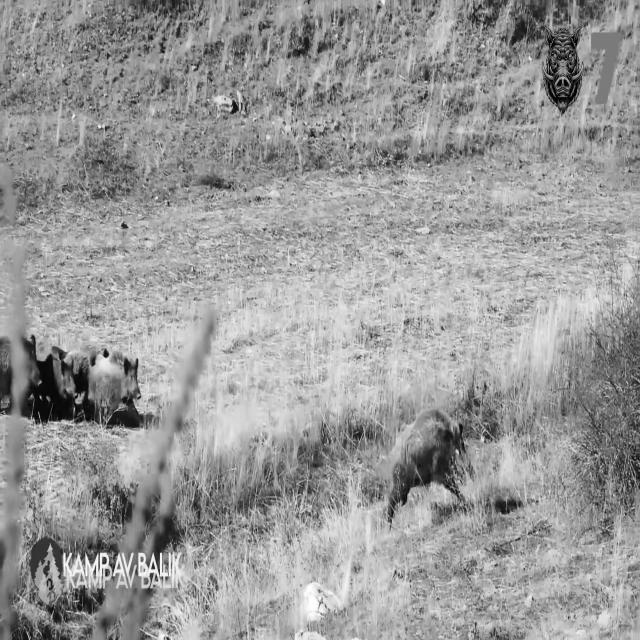boar: (22, 335, 140, 423), (387, 409, 473, 523)
